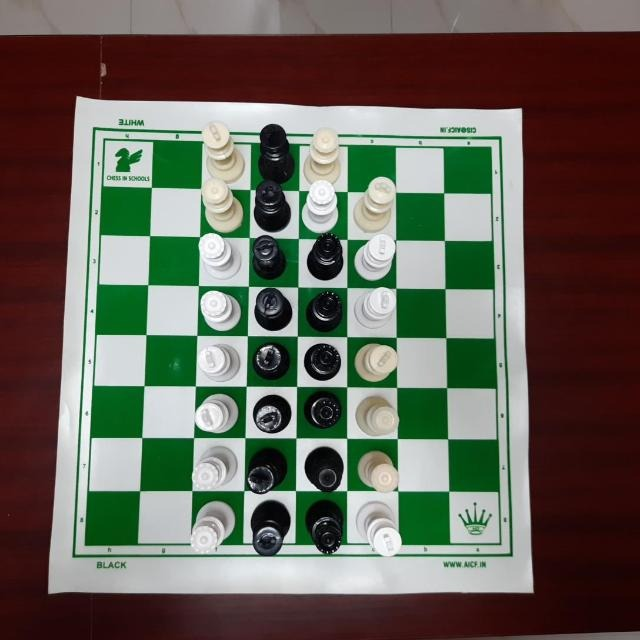black-king: (248, 499, 302, 560), (246, 229, 303, 285), (252, 117, 296, 185), (247, 390, 297, 445), (246, 284, 301, 334), (248, 172, 296, 229), (243, 337, 294, 385), (246, 446, 291, 497)
black-queen: (300, 500, 345, 558), (298, 446, 345, 498), (300, 231, 346, 283), (305, 289, 346, 335), (305, 388, 343, 433), (302, 338, 342, 379)
white-king: (352, 501, 410, 569), (198, 116, 245, 182), (193, 390, 240, 447), (191, 343, 251, 385), (352, 232, 400, 284), (352, 173, 395, 231), (350, 337, 398, 385), (352, 285, 399, 327)
white-queen: (188, 501, 240, 565), (295, 122, 344, 186), (188, 445, 240, 495), (198, 178, 247, 228), (351, 392, 401, 440), (199, 284, 243, 336), (199, 227, 241, 278), (303, 177, 341, 231), (358, 450, 400, 496)
